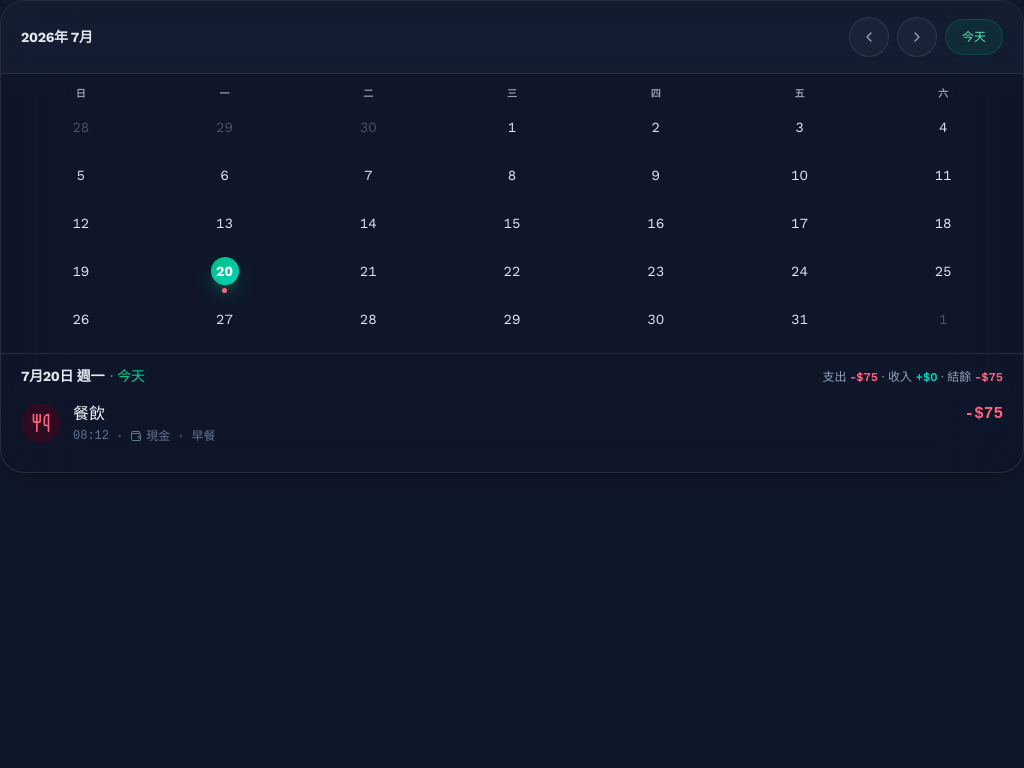
Scenario: TransactionCalendar 手機/桌機分流 › 點其他日期切換下方 List（無交易日顯示空狀態）
This screenshot has width=1024, height=768.
Click the button "19" at (81, 274), box [9,251,153,297]
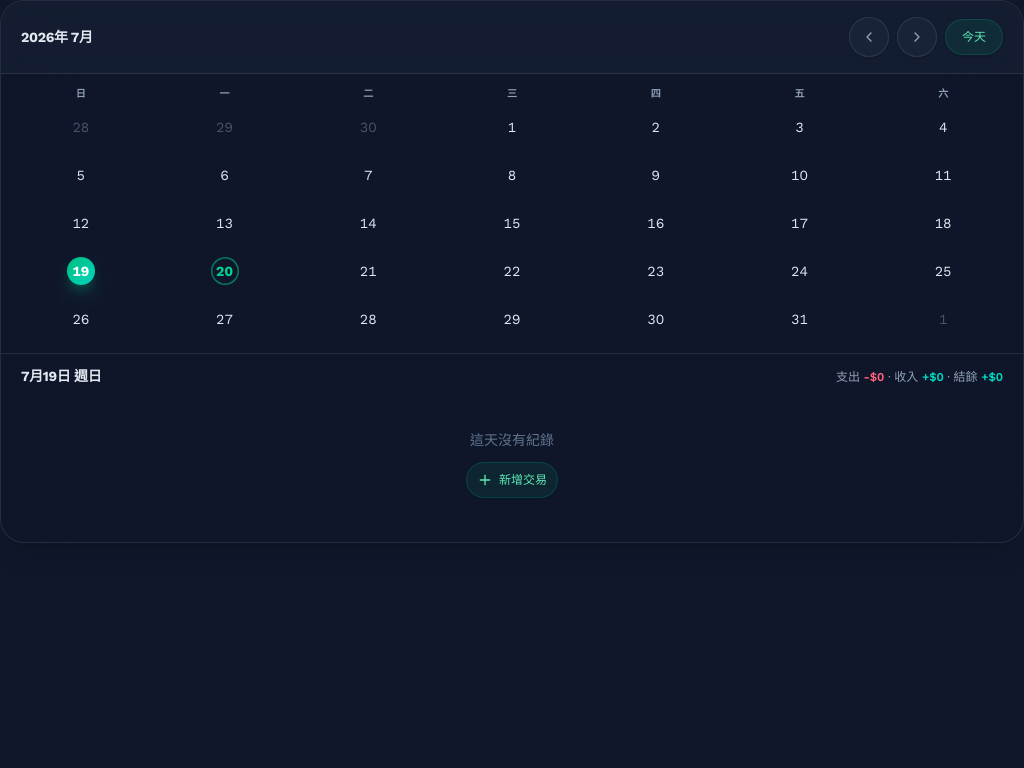
Expected: the element with test id "day-list-row" is gone
Expected: the element with test id "day-list-empty" is shown, [466,432,558,498]
